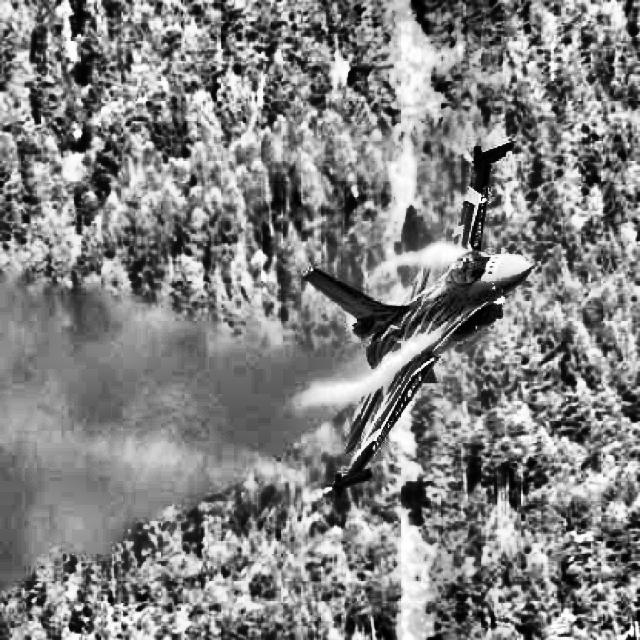F16: (302, 142, 538, 500)
